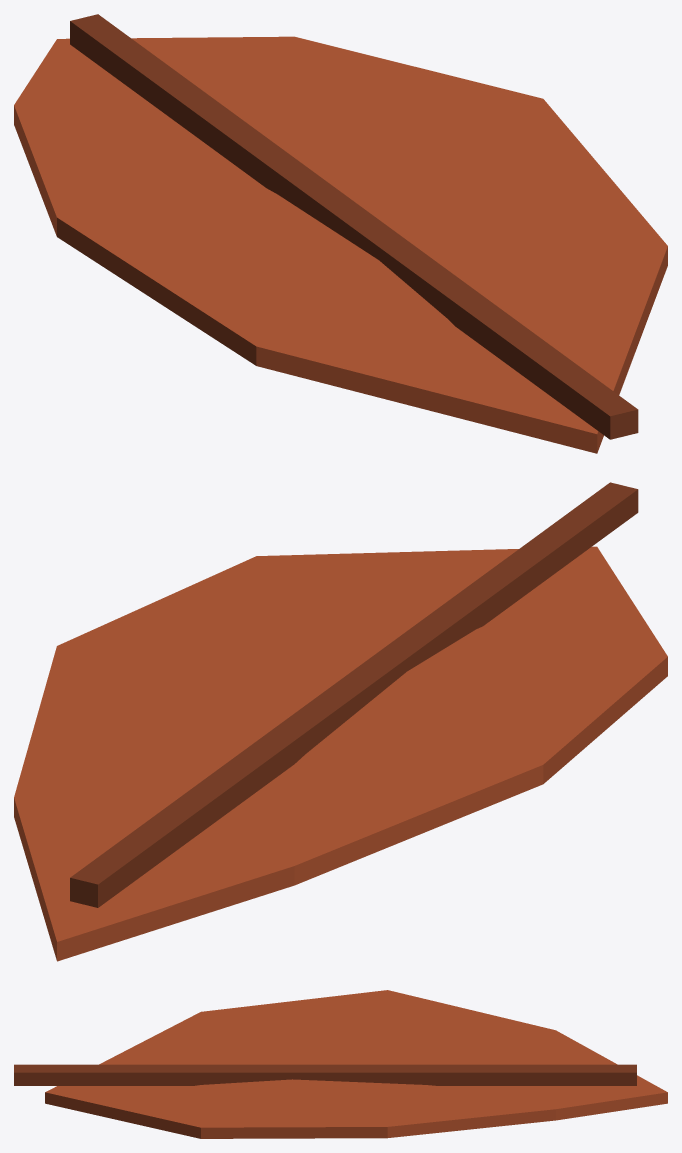
File: Hava_yaprak_3.fbx
3 views of the same model, one above another, from view 1: azimuth 30°, elevation 25°; view 2: azimuth 150°, elevation 25°; view 3: azimuth 270°, elevation 25° (orthographic). The views are drawn at different scales.
Parts seen in each view (by area): view 1: Hava_yaprak_3; view 2: Hava_yaprak_3; view 3: Hava_yaprak_3.
Part boxes in pixels (<box>): Hava_yaprak_3: <box>14,14,667,453</box>; Hava_yaprak_3: <box>14,482,667,961</box>; Hava_yaprak_3: <box>14,990,667,1138</box>.
Bounding box in the file's own units: 0.52 × 0.08 × 1.05.
